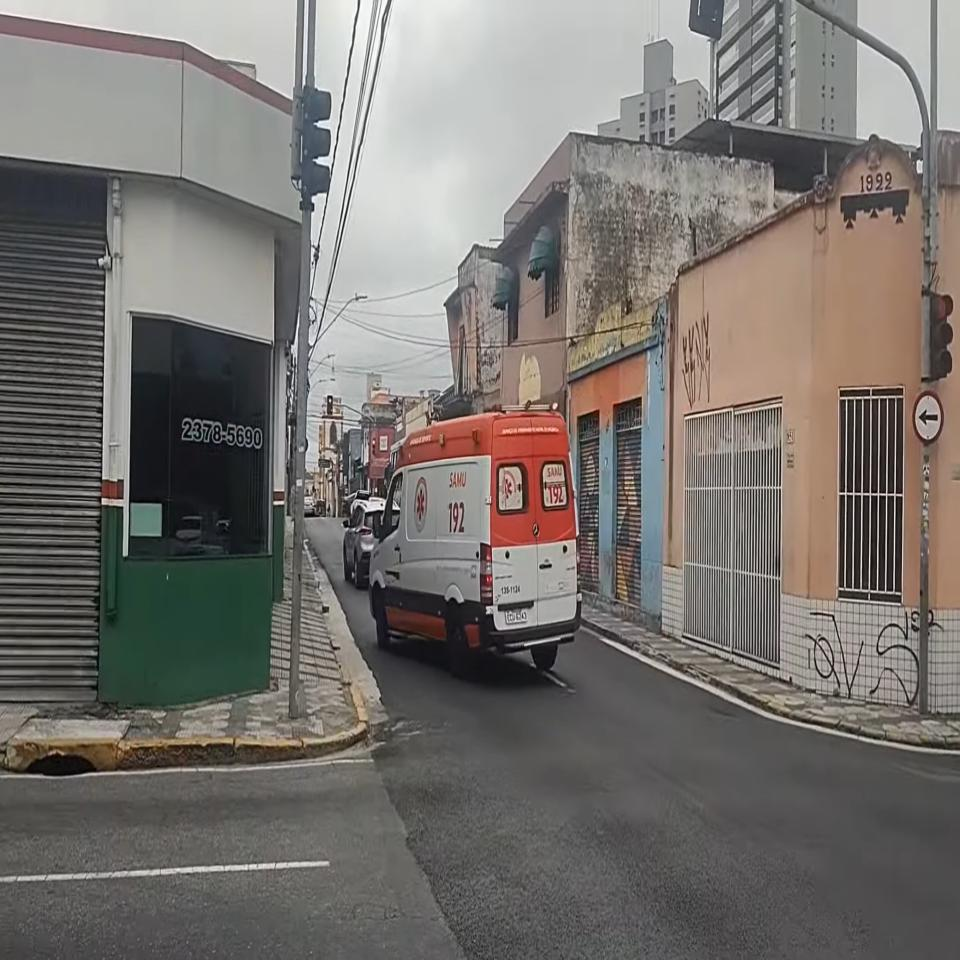bombeiro: (368, 407, 582, 680)
